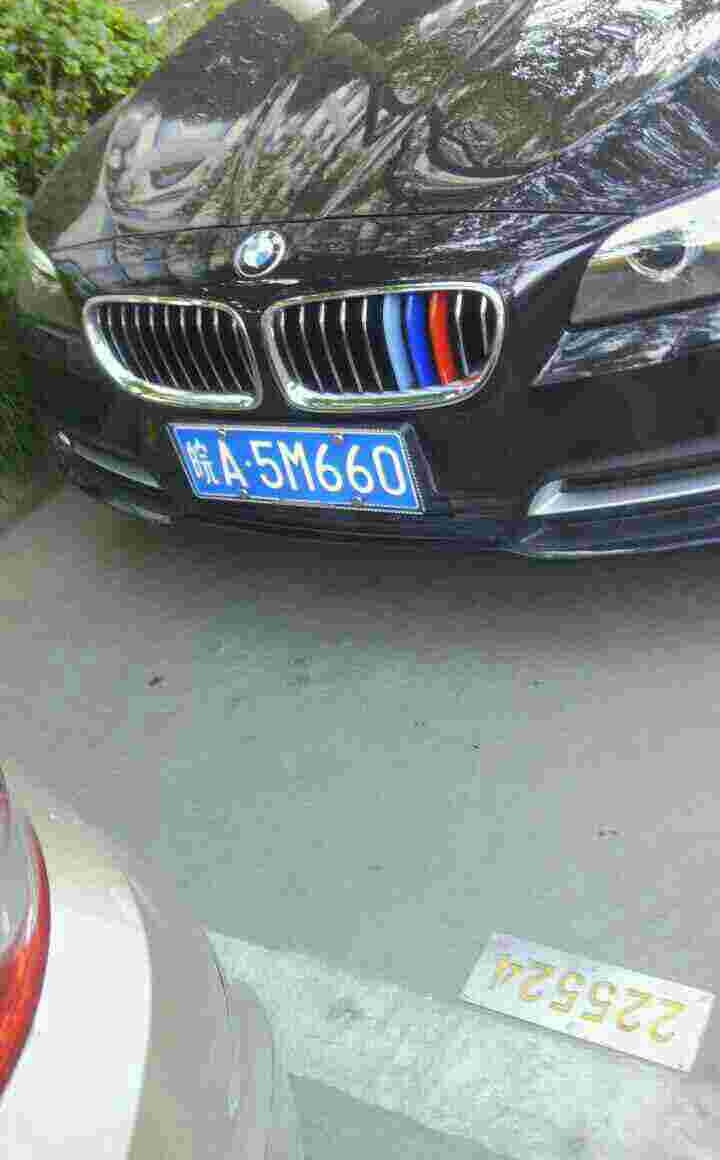license_plate: (181, 435, 420, 503)
